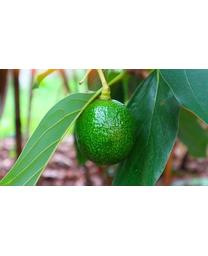avocado: (73, 99, 137, 167)
